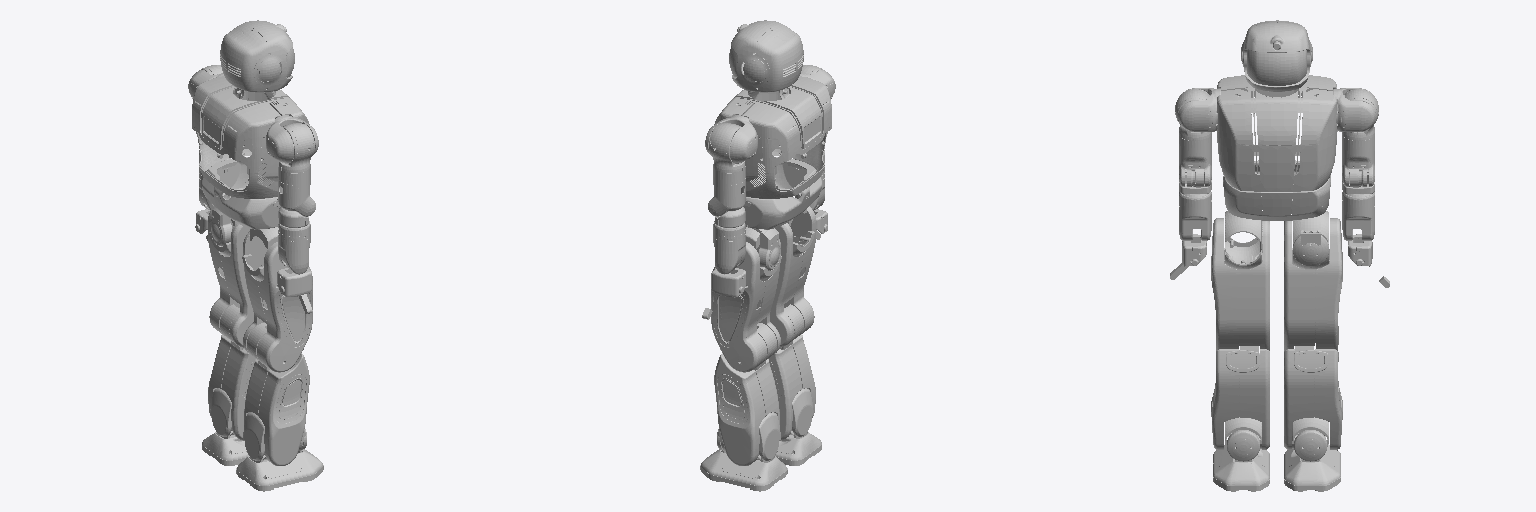
--- Render facts (derived) ---
3 views of the same robot in one strip: view 1: azimuth 30°, elevation 25°; view 2: azimuth 150°, elevation 25°; view 3: azimuth 270°, elevation 25° (orthographic).
Robot: huboplus — 60 links, 59 joints (57 revolute, 2 fixed); root link Body_Torso; default pose: all joints at 0.
Links seen in each view (by area): view 1: Body_Torso, Body_RHP, Body_RKP, Body_HNP, Body_LHP, Body_LKP, Body_Hip, Body_RAR, Body_RSY, Body_RWY, Body_RSP, Body_RSR (+6 smaller); view 2: Body_Torso, Body_LKP, Body_LHP, Body_HNP, Body_RHP, Body_RKP, Body_Hip, Body_LAR, Body_LSY, Body_LWY, Body_LSP, Body_LSR (+5 smaller); view 3: Body_Torso, Body_LHP, Body_RHP, Body_LKP, Body_RKP, Body_HNP, Body_Hip, Body_LAR, Body_RAR, Body_RHR, Body_RWY, Body_LWY (+11 smaller).
Link boxes in pixels (bbox=[...]): Body_Torso: bbox=[192, 76, 309, 198]; Body_RHP: bbox=[243, 231, 312, 372]; Body_RKP: bbox=[244, 323, 309, 465]; Body_HNP: bbox=[220, 20, 294, 92]; Body_LHP: bbox=[208, 210, 253, 347]; Body_LKP: bbox=[208, 304, 255, 440]; Body_Hip: bbox=[202, 159, 280, 229]; Body_RAR: bbox=[236, 429, 323, 491]; Body_RSY: bbox=[278, 160, 315, 216]; Body_RWY: bbox=[278, 221, 310, 274]; Body_RSP: bbox=[266, 115, 318, 162]; Body_RSR: bbox=[279, 123, 314, 172]; Body_Torso: bbox=[714, 76, 831, 198]; Body_LKP: bbox=[714, 323, 779, 465]; Body_LHP: bbox=[711, 239, 780, 372]; Body_HNP: bbox=[729, 20, 803, 92]; Body_RHP: bbox=[770, 206, 815, 347]; Body_RKP: bbox=[768, 304, 815, 440]; Body_Hip: bbox=[743, 159, 821, 229]; Body_LAR: bbox=[700, 429, 787, 491]; Body_LSY: bbox=[708, 160, 745, 216]; Body_LWY: bbox=[713, 221, 745, 274]; Body_LSP: bbox=[705, 115, 757, 162]; Body_LSR: bbox=[709, 123, 744, 172]; Body_Torso: bbox=[1217, 75, 1337, 191]; Body_LHP: bbox=[1284, 218, 1342, 350]; Body_RHP: bbox=[1211, 218, 1269, 350]; Body_LKP: bbox=[1284, 346, 1342, 449]; Body_RKP: bbox=[1211, 346, 1269, 449]; Body_HNP: bbox=[1241, 20, 1312, 91]; Body_Hip: bbox=[1223, 160, 1330, 220]; Body_LAR: bbox=[1284, 429, 1340, 491]; Body_RAR: bbox=[1213, 429, 1269, 491]; Body_RHR: bbox=[1225, 211, 1261, 268]; Body_RWY: bbox=[1179, 184, 1211, 240]; Body_LWY: bbox=[1342, 185, 1374, 240].
Size in the robot's own frame: 0.2767 by 0.5741 by 1.29 metres.
29 mesh visuals loaded from 49 distinct referenced files (29 binary STL); not drawn: 20 (reference not matched to a file when rendering).

The robot description file, URDF, robot "huboplus":
<?xml version="1.0" encoding="utf-8"?>
<!-- =================================================================================== -->
<!-- |    This document was autogenerated by xacro from huboplus.xacro                 | -->
<!-- |    EDITING THIS FILE BY HAND IS NOT RECOMMENDED                                 | -->
<!-- =================================================================================== -->
<robot name="huboplus">
  <link name="Body_Torso">
    <inertial>
      <mass value="7.50334"/>
      <inertia ixx="0.102019" ixy="2.45462e-05" ixz="0.00713022" iyy="0.0832724" iyz="-0.00131733" izz="0.086493"/>
      <origin xyz="0 0 0"/>
    </inertial>
    <visual>
      <geometry>
        <mesh filename="meshes_hubo/Body_Torso_vis.stl"/>
      </geometry>
      <material name="random">
        <color rgba="0.800000 0.800000 0.800000 1"/>
      </material>
    </visual>
    <!--<collision>-->
      <!--<geometry>-->
        <!--<mesh filename="meshes_hubo/Body_Torso_col.stl"/>-->
      <!--</geometry>-->
    <!--</collision>-->
  </link>
  <link name="Body_HNR">
</link>
  <link name="Body_HNP">
    <inertial>
      <mass value="0.374251"/>
      <inertia ixx="0.00164033" ixy="-1.08171e-07" ixz="-9.53978e-05" iyy="0.00153943" iyz="1.25376e-06" izz="0.00190393"/>
      <origin xyz="0.0106886 -3.00864e-05 0.032123"/>
    </inertial>
    <visual>
      <geometry>
        <mesh filename="meshes_hubo/Body_HNP_vis.stl"/>
      </geometry>
      <material name="random">
        <color rgba="0.800000 0.800000 0.800000 1"/>
      </material>
    </visual>
    <!--<collision>-->
      <!--<geometry>-->
        <!--<mesh filename="meshes_hubo/Body_HNP_col.stl"/>-->
      <!--</geometry>-->
    <!--</collision>-->
  </link>
  <link name="Body_LSP">
    <inertial>
      <mass value="0.646655"/>
      <inertia ixx="0.000893731" ixy="-0.000156484" ixz="4.98007e-07" iyy="0.00093016" iyz="1.57095e-07" izz="0.00124323"/>
      <origin xyz="0.0167207 0.0570407 9.91873e-06"/>
    </inertial>
    <visual>
      <geometry>
        <mesh filename="meshes_hubo/Body_LSP_vis.stl"/>
      </geometry>
      <material name="random">
        <color rgba="0.800000 0.800000 0.800000 1"/>
      </material>
    </visual>
    <!--<collision>-->
      <!--<geometry>-->
        <!--<mesh filename="meshes_hubo/Body_LSP_col.stl"/>-->
      <!--</geometry>-->
    <!--</collision>-->
  </link>
  <link name="Body_LSR">
    <inertial>
      <mass value="0.413368"/>
      <inertia ixx="0.000269283" ixy="4.52571e-07" ixz="3.23662e-06" iyy="0.00037679" iyz="9.93935e-07" izz="0.000360355"/>
      <origin xyz="-0.036208 -8.31243e-05 -0.00126685"/>
    </inertial>
    <visual>
      <geometry>
        <mesh filename="meshes_hubo/Body_LSR_vis.stl"/>
      </geometry>
      <material name="random">
        <color rgba="0.800000 0.800000 0.800000 1"/>
      </material>
    </visual>
    <!--<collision>-->
      <!--<geometry>-->
        <!--<mesh filename="meshes_hubo/Body_LSR_col.stl"/>-->
      <!--</geometry>-->
    <!--</collision>-->
  </link>
  <link name="Body_LSY">
    <inertial>
      <mass value="1.15461"/>
      <inertia ixx="0.00365479" ixy="2.05436e-06" ixz="0.000418448" iyy="0.00364731" iyz="-3.09648e-05" izz="0.00060633"/>
      <origin xyz="0.00456121 3.10576e-05 -0.0907824"/>
    </inertial>
    <visual>
      <geometry>
        <mesh filename="meshes_hubo/Body_LSY_vis.stl"/>
      </geometry>
      <material name="random">
        <color rgba="0.800000 0.800000 0.800000 1"/>
      </material>
    </visual>
    <!--<collision>-->
      <!--<geometry>-->
        <!--<mesh filename="meshes_hubo/Body_LSY_col.stl"/>-->
      <!--</geometry>-->
    <!--</collision>-->
  </link>
  <link name="Body_LEP">
    <inertial>
      <mass value="0.44094"/>
      <inertia ixx="0.0005027" ixy="3.64587e-06" ixz="-1.41388e-05" iyy="0.00049415" iyz="7.65528e-06" izz="0.000131786"/>
      <origin xyz="-0.0217349 0.0178314 -0.0610873"/>
    </inertial>
    <visual>
      <geometry>
        <mesh filename="meshes_hubo/Body_LEP_vis.stl"/>
      </geometry>
      <material name="random">
        <color rgba="0.800000 0.800000 0.800000 1"/>
      </material>
    </visual>
    <!--<collision>-->
      <!--<geometry>-->
        <!--<mesh filename="meshes_hubo/Body_LEP_col.stl"/>-->
      <!--</geometry>-->
    <!--</collision>-->
  </link>
  <link name="Body_LWY">
    <inertial>
      <mass value="0.537738"/>
      <inertia ixx="0.00063457" ixy="-4.62486e-07" ixz="6.20682e-06" iyy="0.000563918" iyz="3.54044e-05" izz="0.000305422"/>
      <origin xyz="-0.00122019 0.000635233 -0.0238043"/>
    </inertial>
    <visual>
      <geometry>
        <mesh filename="meshes_hubo/Body_LWY_vis.stl"/>
      </geometry>
      <material name="random">
        <color rgba="0.800000 0.800000 0.800000 1"/>
      </material>
    </visual>
    <!--<collision>-->
      <!--<geometry>-->
        <!--<mesh filename="meshes_hubo/Body_LWY_col.stl"/>-->
      <!--</geometry>-->
    <!--</collision>-->
  </link>
  <link name="Body_LWP">
    <inertial>
      <mass value="0.164393"/>
      <inertia ixx="9.74327e-05" ixy="-5.22155e-07" ixz="-1.17317e-06" iyy="0.000144494" iyz="9.4927e-06" izz="0.000122681"/>
      <origin xyz="-0.000258199 0.011442 -0.0461472"/>
    </inertial>
    <visual>
      <geometry>
        <mesh filename="meshes_hubo/Body_LWP_vis.stl"/>
      </geometry>
      <material name="random">
        <color rgba="0.800000 0.800000 0.800000 1"/>
      </material>
    </visual>
    <!--<collision>-->
      <!--<geometry>-->
        <!--<mesh filename="meshes_hubo/Body_LWP_col.stl"/>-->
      <!--</geometry>-->
    <!--</collision>-->
  </link>
  <link name="leftThumbProximal">
    <inertial>
      <mass value="0.096"/>
      <inertia ixx="2.304e-06" ixy="0" ixz="0" iyy="8.96e-06" iyz="6.85949e-15" izz="9.216e-06"/>
      <origin xyz="0.024 0 0"/>
    </inertial>
    <visual>
      <geometry>
        <mesh filename="meshes_hubo/leftThumbProximal_vis.stl"/>
      </geometry>
      <material name="random">
        <color rgba="0.800000 0.800000 0.800000 1"/>
      </material>
    </visual>
    <!--<collision>-->
      <!--<geometry>-->
        <!--<mesh filename="meshes_hubo/leftThumbProximal_vis.stl"/>-->
      <!--</geometry>-->
    <!--</collision>-->
  </link>
  <link name="leftThumbMedial">
    <inertial>
      <mass value="0.048"/>
      <inertia ixx="1.152e-06" ixy="0" ixz="0" iyy="2.59e-06" iyz="3.42975e-15" izz="2.718e-06"/>
      <origin xyz="0.0165 0 0"/>
    </inertial>
    <!--<visual>-->
      <!--<geometry>-->
        <!--<mesh filename="meshes_hubo/leftThumbMedial_vis.stl"/>-->
      <!--</geometry>-->
      <!--<material name="random">-->
        <!--<color rgba="0.800000 0.800000 0.800000 1"/>-->
      <!--</material>-->
    <!--</visual>-->
    <!--<collision>-->
      <!--<geometry>-->
        <!--<mesh filename="meshes_hubo/leftThumbMedial_vis.stl"/>-->
      <!--</geometry>-->
    <!--</collision>-->
  </link>
  <link name="leftThumbDistal">
    <inertial>
      <mass value="0.08"/>
      <inertia ixx="1.92e-06" ixy="0" ixz="0" iyy="3.82667e-06" iyz="5.71624e-15" izz="4.04e-06"/>
      <origin xyz="0.015 0 0"/>
    </inertial>
    <visual>
      <geometry>
        <mesh filename="meshes_hubo/leftThumbDistal_vis.stl"/>
      </geometry>
      <material name="random">
        <color rgba="0.800000 0.800000 0.800000 1"/>
      </material>
    </visual>
    <!--<collision>-->
      <!--<geometry>-->
        <!--<mesh filename="meshes_hubo/leftThumbDistal_vis.stl"/>-->
      <!--</geometry>-->
    <!--</collision>-->
  </link>
  <link name="leftPinkyProximal">
    <inertial>
      <mass value="0.096"/>
      <inertia ixx="2.304e-06" ixy="0" ixz="0" iyy="8.96e-06" iyz="6.85949e-15" izz="9.216e-06"/>
      <origin xyz="0.024 0 0"/>
    </inertial>
    <visual>
      <geometry>
        <mesh filename="meshes_hubo/leftPinkyProximal_vis.stl"/>
      </geometry>
      <material name="random">
        <color rgba="0.800000 0.800000 0.800000 1"/>
      </material>
    </visual>
    <!--<collision>-->
      <!--<geometry>-->
        <!--<mesh filename="meshes_hubo/leftPinkyProximal_vis.stl"/>-->
      <!--</geometry>-->
    <!--</collision>-->
  </link>
  <link name="leftPinkyMedial">
    <inertial>
      <mass value="0.048"/>
      <inertia ixx="1.152e-06" ixy="0" ixz="0" iyy="2.59e-06" iyz="3.42975e-15" izz="2.718e-06"/>
      <origin xyz="0.0165 0 0"/>
    </inertial>
    <visual>
      <geometry>
        <mesh filename="meshes_hubo/leftPinkyMedial_vis.stl"/>
      </geometry>
      <material name="random">
        <color rgba="0.800000 0.800000 0.800000 1"/>
      </material>
    </visual>
    <!--<collision>-->
      <!--<geometry>-->
        <!--<mesh filename="meshes_hubo/leftPinkyMedial_vis.stl"/>-->
      <!--</geometry>-->
    <!--</collision>-->
  </link>
  <link name="leftPinkyDistal">
    <inertial>
      <mass value="0.08"/>
      <inertia ixx="1.92e-06" ixy="0" ixz="0" iyy="3.82667e-06" iyz="5.71624e-15" izz="4.04e-06"/>
      <origin xyz="0.015 0 0"/>
    </inertial>
    <visual>
      <geometry>
        <mesh filename="meshes_hubo/leftPinkyDistal_vis.stl"/>
      </geometry>
      <material name="random">
        <color rgba="0.800000 0.800000 0.800000 1"/>
      </material>
    </visual>
    <!--<collision>-->
      <!--<geometry>-->
        <!--<mesh filename="meshes_hubo/leftPinkyDistal_vis.stl"/>-->
      <!--</geometry>-->
    <!--</collision>-->
  </link>
  <link name="leftRingProximal">
    <inertial>
      <mass value="0.096"/>
      <inertia ixx="2.304e-06" ixy="0" ixz="0" iyy="8.96e-06" iyz="6.85949e-15" izz="9.216e-06"/>
      <origin xyz="0.024 0 0"/>
    </inertial>
    <visual>
      <geometry>
        <mesh filename="meshes_hubo/leftRingProximal_vis.stl"/>
      </geometry>
      <material name="random">
        <color rgba="0.800000 0.800000 0.800000 1"/>
      </material>
    </visual>
    <!--<collision>-->
      <!--<geometry>-->
        <!--<mesh filename="meshes_hubo/leftRingProximal_vis.stl"/>-->
      <!--</geometry>-->
    <!--</collision>-->
  </link>
  <link name="leftRingMedial">
    <inertial>
      <mass value="0.048"/>
      <inertia ixx="1.152e-06" ixy="0" ixz="0" iyy="2.59e-06" iyz="3.42975e-15" izz="2.718e-06"/>
      <origin xyz="0.0165 0 0"/>
    </inertial>
    <visual>
      <geometry>
        <mesh filename="meshes_hubo/leftRingMedial_vis.stl"/>
      </geometry>
      <material name="random">
        <color rgba="0.800000 0.800000 0.800000 1"/>
      </material>
    </visual>
    <!--<collision>-->
      <!--<geometry>-->
        <!--<mesh filename="meshes_hubo/leftRingMedial_vis.stl"/>-->
      <!--</geometry>-->
    <!--</collision>-->
  </link>
  <link name="leftRingDistal">
    <inertial>
      <mass value="0.08"/>
      <inertia ixx="1.92e-06" ixy="0" ixz="0" iyy="3.82667e-06" iyz="5.71624e-15" izz="4.04e-06"/>
      <origin xyz="0.015 0 0"/>
    </inertial>
    <visual>
      <geometry>
        <mesh filename="meshes_hubo/leftRingDistal_vis.stl"/>
      </geometry>
      <material name="random">
        <color rgba="0.800000 0.800000 0.800000 1"/>
      </material>
    </visual>
    <!--<collision>-->
      <!--<geometry>-->
        <!--<mesh filename="meshes_hubo/leftRingDistal_vis.stl"/>-->
      <!--</geometry>-->
    <!--</collision>-->
  </link>
  <link name="leftMiddleProximal">
    <inertial>
      <mass value="0.096"/>
      <inertia ixx="2.304e-06" ixy="0" ixz="0" iyy="8.96e-06" iyz="6.85949e-15" izz="9.216e-06"/>
      <origin xyz="0.024 0 0"/>
    </inertial>
    <!--<visual>-->
      <!--<geometry>-->
        <!--<mesh filename="meshes_hubo/leftMiddleProximal_vis.stl"/>-->
      <!--</geometry>-->
      <!--<material name="random">-->
        <!--<color rgba="0.800000 0.800000 0.800000 1"/>-->
      <!--</material>-->
    <!--</visual>-->
    <!--<collision>-->
      <!--<geometry>-->
        <!--<mesh filename="meshes_hubo/leftMiddleProximal_vis.stl"/>-->
      <!--</geometry>-->
    <!--</collision>-->
  </link>
  <link name="leftMiddleMedial">
    <inertial>
      <mass value="0.048"/>
      <inertia ixx="1.152e-06" ixy="0" ixz="0" iyy="2.59e-06" iyz="3.42975e-15" izz="2.718e-06"/>
      <origin xyz="0.0165 0 0"/>
    </inertial>
    <visual>
      <geometry>
        <mesh filename="meshes_hubo/leftMiddleMedial_vis.stl"/>
      </geometry>
      <material name="random">
        <color rgba="0.800000 0.800000 0.800000 1"/>
      </material>
    </visual>
    <!--<collision>-->
      <!--<geometry>-->
        <!--<mesh filename="meshes_hubo/leftMiddleMedial_vis.stl"/>-->
      <!--</geometry>-->
    <!--</collision>-->
  </link>
  <link name="leftMiddleDistal">
    <inertial>
      <mass value="0.08"/>
      <inertia ixx="1.92e-06" ixy="0" ixz="0" iyy="3.82667e-06" iyz="5.71624e-15" izz="4.04e-06"/>
      <origin xyz="0.015 0 0"/>
    </inertial>
    <visual>
      <geometry>
        <mesh filename="meshes_hubo/leftMiddleDistal_vis.stl"/>
      </geometry>
      <material name="random">
        <color rgba="0.800000 0.800000 0.800000 1"/>
      </material>
    </visual>
    <!--<collision>-->
      <!--<geometry>-->
        <!--<mesh filename="meshes_hubo/leftMiddleDistal_vis.stl"/>-->
      <!--</geometry>-->
    <!--</collision>-->
  </link>
  <link name="leftIndexProximal">
    <inertial>
      <mass value="0.096"/>
      <inertia ixx="2.304e-06" ixy="0" ixz="0" iyy="8.96e-06" iyz="6.85949e-15" izz="9.216e-06"/>
      <origin xyz="0.024 0 0"/>
    </inertial>
    <visual>
      <geometry>
        <mesh filename="meshes_hubo/leftIndexProximal_vis.stl"/>
      </geometry>
      <material name="random">
        <color rgba="0.800000 0.800000 0.800000 1"/>
      </material>
    </visual>
    <!--<collision>-->
      <!--<geometry>-->
        <!--<mesh filename="meshes_hubo/leftIndexProximal_vis.stl"/>-->
      <!--</geometry>-->
    <!--</collision>-->
  </link>
  <link name="leftIndexMedial">
    <inertial>
      <mass value="0.048"/>
      <inertia ixx="1.152e-06" ixy="0" ixz="0" iyy="2.59e-06" iyz="3.42975e-15" izz="2.718e-06"/>
      <origin xyz="0.0165 0 0"/>
    </inertial>
    <visual>
      <geometry>
        <mesh filename="meshes_hubo/leftIndexMedial_vis.stl"/>
      </geometry>
      <material name="random">
        <color rgba="0.800000 0.800000 0.800000 1"/>
      </material>
    </visual>
    <!--<collision>-->
      <!--<geometry>-->
        <!--<mesh filename="meshes_hubo/leftIndexMedial_vis.stl"/>-->
      <!--</geometry>-->
    <!--</collision>-->
  </link>
  <link name="leftIndexDistal">
    <inertial>
      <mass value="0.08"/>
      <inertia ixx="1.92e-06" ixy="0" ixz="0" iyy="3.82667e-06" iyz="5.71624e-15" izz="4.04e-06"/>
      <origin xyz="0.015 0 0"/>
    </inertial>
    <visual>
      <geometry>
        <mesh filename="meshes_hubo/leftIndexDistal_vis.stl"/>
      </geometry>
      <material name="random">
        <color rgba="0.800000 0.800000 0.800000 1"/>
      </material>
    </visual>
    <!--<collision>-->
      <!--<geometry>-->
        <!--<mesh filename="meshes_hubo/leftIndexDistal_vis.stl"/>-->
      <!--</geometry>-->
    <!--</collision>-->
  </link>
  <link name="Body_RSP">
    <inertial>
      <mass value="0.646655"/>
      <inertia ixx="0.000893731" ixy="0.000156484" ixz="4.98007e-07" iyy="0.00093016" iyz="-1.57095e-07" izz="0.00124323"/>
      <origin xyz="0.0167207 -0.0570407 9.91873e-06"/>
    </inertial>
    <visual>
      <geometry>
        <mesh filename="meshes_hubo/Body_RSP_vis.stl"/>
      </geometry>
      <material name="random">
        <color rgba="0.800000 0.800000 0.800000 1"/>
      </material>
    </visual>
    <!--<collision>-->
      <!--<geometry>-->
        <!--<mesh filename="meshes_hubo/Body_RSP_col.stl"/>-->
      <!--</geometry>-->
    <!--</collision>-->
  </link>
  <link name="Body_RSR">
    <inertial>
      <mass value="0.413368"/>
      <inertia ixx="0.000269283" ixy="-4.52571e-07" ixz="3.23662e-06" iyy="0.00037679" iyz="-9.93935e-07" izz="0.000360355"/>
      <origin xyz="-0.036208 8.31243e-05 -0.00126685"/>
    </inertial>
    <visual>
      <geometry>
        <mesh filename="meshes_hubo/Body_RSR_vis.stl"/>
      </geometry>
      <material name="random">
        <color rgba="0.800000 0.800000 0.800000 1"/>
      </material>
    </visual>
    <!--<collision>-->
      <!--<geometry>-->
        <!--<mesh filename="meshes_hubo/Body_RSR_col.stl"/>-->
      <!--</geometry>-->
    <!--</collision>-->
  </link>
  <link name="Body_RSY">
    <inertial>
      <mass value="1.15461"/>
      <inertia ixx="0.00365479" ixy="-2.05436e-06" ixz="0.000418448" iyy="0.00364731" iyz="3.09648e-05" izz="0.00060633"/>
      <origin xyz="0.00456121 -3.10576e-05 -0.0907824"/>
    </inertial>
    <visual>
      <geometry>
        <mesh filename="meshes_hubo/Body_RSY_vis.stl"/>
      </geometry>
      <material name="random">
        <color rgba="0.800000 0.800000 0.800000 1"/>
      </material>
    </visual>
    <!--<collision>-->
      <!--<geometry>-->
        <!--<mesh filename="meshes_hubo/Body_RSY_col.stl"/>-->
      <!--</geometry>-->
    <!--</collision>-->
  </link>
  <link name="Body_REP">
    <inertial>
      <mass value="0.44094"/>
      <inertia ixx="0.0005027" ixy="-3.64587e-06" ixz="-1.41388e-05" iyy="0.00049415" iyz="-7.65528e-06" izz="0.000131786"/>
      <origin xyz="-0.0217349 -0.0178314 -0.0610873"/>
    </inertial>
    <visual>
      <geometry>
        <mesh filename="meshes_hubo/Body_REP_vis.stl"/>
      </geometry>
      <material name="random">
        <color rgba="0.800000 0.800000 0.800000 1"/>
      </material>
    </visual>
    <!--<collision>-->
      <!--<geometry>-->
        <!--<mesh filename="meshes_hubo/Body_REP_col.stl"/>-->
      <!--</geometry>-->
    <!--</collision>-->
  </link>
  <link name="Body_RWY">
    <inertial>
      <mass value="0.537738"/>
      <inertia ixx="0.00063457" ixy="4.62486e-07" ixz="6.20682e-06" iyy="0.000563918" iyz="-3.54044e-05" izz="0.000305422"/>
      <origin xyz="-0.00122019 -0.000635233 -0.0238043"/>
    </inertial>
    <visual>
      <geometry>
        <mesh filename="meshes_hubo/Body_RWY_vis.stl"/>
      </geometry>
      <material name="random">
        <color rgba="0.800000 0.800000 0.800000 1"/>
      </material>
    </visual>
    <!--<collision>-->
      <!--<geometry>-->
        <!--<mesh filename="meshes_hubo/Body_RWY_col.stl"/>-->
      <!--</geometry>-->
    <!--</collision>-->
  </link>
  <link name="Body_RWP">
    <inertial>
      <mass value="0.164393"/>
      <inertia ixx="9.74327e-05" ixy="5.22155e-07" ixz="-1.17317e-06" iyy="0.000144494" iyz="-9.4927e-06" izz="0.000122681"/>
      <origin xyz="-0.000258199 -0.011442 -0.0461472"/>
    </inertial>
    <visual>
      <geometry>
        <mesh filename="meshes_hubo/Body_RWP_vis.stl"/>
      </geometry>
      <material name="random">
        <color rgba="0.800000 0.800000 0.800000 1"/>
      </material>
    </visual>
    <!--<collision>-->
      <!--<geometry>-->
        <!--<mesh filename="meshes_hubo/Body_RWP_col.stl"/>-->
      <!--</geometry>-->
    <!--</collision>-->
  </link>
  <link name="rightThumbProximal">
    <inertial>
      <mass value="0.096"/>
      <inertia ixx="2.304e-06" ixy="0" ixz="0" iyy="8.96e-06" iyz="6.85949e-15" izz="9.216e-06"/>
      <origin xyz="0.024 0 0"/>
    </inertial>
    <!--<visual>-->
      <!--<geometry>-->
        <!--<mesh filename="meshes_hubo/rightThumbProximal_vis.stl"/>-->
      <!--</geometry>-->
      <!--<material name="random">-->
        <!--<color rgba="0.800000 0.800000 0.800000 1"/>-->
      <!--</material>-->
    <!--</visual>-->
    <!--<collision>-->
      <!--<geometry>-->
        <!--<mesh filename="meshes_hubo/rightThumbProximal_vis.stl"/>-->
      <!--</geometry>-->
    <!--</collision>-->
  </link>
  <link name="rightThumbMedial">
    <inertial>
      <mass value="0.048"/>
      <inertia ixx="1.152e-06" ixy="0" ixz="0" iyy="2.59e-06" iyz="3.42975e-15" izz="2.718e-06"/>
      <origin xyz="0.0165 0 0"/>
    </inertial>
    <!--<visual>-->
      <!--<geometry>-->
        <!--<mesh filename="meshes_hubo/rightThumbMedial_vis.stl"/>-->
      <!--</geometry>-->
      <!--<material name="random">-->
        <!--<color rgba="0.800000 0.800000 0.800000 1"/>-->
      <!--</material>-->
    <!--</visual>-->
    <!--<collision>-->
      <!--<geometry>-->
        <!--<mesh filename="meshes_hubo/rightThumbMedial_vis.stl"/>-->
      <!--</geometry>-->
    <!--</collision>-->
  </link>
  <link name="rightThumbDistal">
    <inertial>
      <mass value="0.08"/>
      <inertia ixx="1.92e-06" ixy="0" ixz="0" iyy="3.82667e-06" iyz="5.71624e-15" izz="4.04e-06"/>
      <origin xyz="0.015 0 0"/>
    </inertial>
    <visual>
      <geometry>
        <mesh filename="meshes_hubo/rightThumbDistal_vis.stl"/>
      </geometry>
      <material name="random">
        <color rgba="0.800000 0.800000 0.800000 1"/>
      </material>
    </visual>
    <!--<collision>-->
      <!--<geometry>-->
        <!--<mesh filename="meshes_hubo/rightThumbDistal_vis.stl"/>-->
      <!--</geometry>-->
    <!--</collision>-->
  </link>
  <link name="rightPinkyProximal">
    <inertial>
      <mass value="0.096"/>
      <inertia ixx="2.304e-06" ixy="0" ixz="0" iyy="8.96e-06" iyz="6.85949e-15" izz="9.216e-06"/>
      <origin xyz="0.024 0 0"/>
    </inertial>
    <visual>
      <geometry>
        <mesh filename="meshes_hubo/rightPinkyProximal_vis.stl"/>
      </geometry>
      <material name="random">
        <color rgba="0.800000 0.800000 0.800000 1"/>
      </material>
    </visual>
    <!--<collision>-->
      <!--<geometry>-->
        <!--<mesh filename="meshes_hubo/rightPinkyProximal_vis.stl"/>-->
      <!--</geometry>-->
    <!--</collision>-->
  </link>
  <link name="rightPinkyMedial">
    <inertial>
      <mass value="0.048"/>
      <inertia ixx="1.152e-06" ixy="0" ixz="0" iyy="2.59e-06" iyz="3.42975e-15" izz="2.718e-06"/>
      <origin xyz="0.0165 0 0"/>
    </inertial>
    <visual>
      <geometry>
        <mesh filename="meshes_hubo/rightPinkyMedial_vis.stl"/>
      </geometry>
      <material name="random">
        <color rgba="0.800000 0.800000 0.800000 1"/>
      </material>
    </visual>
    <!--<collision>-->
      <!--<geometry>-->
        <!--<mesh filename="meshes_hubo/rightPinkyMedial_vis.stl"/>-->
      <!--</geometry>-->
    <!--</collision>-->
  </link>
  <link name="rightPinkyDistal">
    <inertial>
      <mass value="0.08"/>
      <inertia ixx="1.92e-06" ixy="0" ixz="0" iyy="3.82667e-06" iyz="5.71624e-15" izz="4.04e-06"/>
      <origin xyz="0.015 0 0"/>
    </inertial>
    <visual>
      <geometry>
        <mesh filename="meshes_hubo/rightPinkyDistal_vis.stl"/>
      </geometry>
      <material name="random">
        <color rgba="0.800000 0.800000 0.800000 1"/>
      </material>
    </visual>
    <!--<collision>-->
      <!--<geometry>-->
        <!--<mesh filename="meshes_hubo/rightPinkyDistal_vis.stl"/>-->
      <!--</geometry>-->
    <!--</collision>-->
  </link>
  <link name="rightRingProximal">
    <inertial>
      <mass value="0.096"/>
      <inertia ixx="2.304e-06" ixy="0" ixz="0" iyy="8.96e-06" iyz="6.85949e-15" izz="9.216e-06"/>
      <origin xyz="0.024 0 0"/>
    </inertial>
    <!--<visual>-->
      <!--<geometry>-->
        <!--<mesh filename="meshes_hubo/rightRingProximal_vis.stl"/>-->
      <!--</geometry>-->
      <!--<material name="random">-->
        <!--<color rgba="0.800000 0.800000 0.800000 1"/>-->
      <!--</material>-->
    <!--</visual>-->
    <!--<collision>-->
      <!--<geometry>-->
        <!--<mesh filename="meshes_hubo/rightRingProximal_vis.stl"/>-->
      <!--</geometry>-->
    <!--</collision>-->
  </link>
  <link name="rightRingMedial">
    <inertial>
      <mass value="0.048"/>
      <inertia ixx="1.152e-06" ixy="0" ixz="0" iyy="2.59e-06" iyz="3.42975e-15" izz="2.718e-06"/>
      <origin xyz="0.0165 0 0"/>
    </inertial>
    <visual>
      <geometry>
        <mesh filename="meshes_hubo/rightRingMedial_vis.stl"/>
      </geometry>
      <material name="random">
        <color rgba="0.800000 0.800000 0.800000 1"/>
      </material>
    </visual>
    <!--<collision>-->
      <!--<geometry>-->
        <!--<mesh filename="meshes_hubo/rightRingMedial_vis.stl"/>-->
      <!--</geometry>-->
    <!--</collision>-->
  </link>
  <link name="rightRingDistal">
    <inertial>
      <mass value="0.08"/>
      <inertia ixx="1.92e-06" ixy="0" ixz="0" iyy="3.82667e-06" iyz="5.71624e-15" izz="4.04e-06"/>
      <origin xyz="0.015 0 0"/>
    </inertial>
    <visual>
      <geometry>
        <mesh filename="meshes_hubo/rightRingDistal_vis.stl"/>
      </geometry>
      <material name="random">
        <color rgba="0.800000 0.800000 0.800000 1"/>
      </material>
    </visual>
    <!--<collision>-->
      <!--<geometry>-->
        <!--<mesh filename="meshes_hubo/rightRingDistal_vis.stl"/>-->
      <!--</geometry>-->
    <!--</collision>-->
  </link>
  <link name="rightMiddleProximal">
    <inertial>
      <mass value="0.096"/>
      <inertia ixx="2.304e-06" ixy="0" ixz="0" iyy="8.96e-06" iyz="6.85949e-15" izz="9.216e-06"/>
      <origin xyz="0.024 0 0"/>
    </inertial>
    <visual>
      <geometry>
        <mesh filename="meshes_hubo/rightMiddleProximal_vis.stl"/>
      </geometry>
      <material name="random">
        <color rgba="0.800000 0.800000 0.800000 1"/>
      </material>
    </visual>
    <!--<collision>-->
      <!--<geometry>-->
        <!--<mesh filename="meshes_hubo/rightMiddleProximal_vis.stl"/>-->
      <!--</geometry>-->
    <!--</collision>-->
  </link>
  <link name="rightMiddleMedial">
    <inertial>
      <mass value="0.048"/>
      <inertia ixx="1.152e-06" ixy="0" ixz="0" iyy="2.59e-06" iyz="3.42975e-15" izz="2.718e-06"/>
      <origin xyz="0.0165 0 0"/>
    </inertial>
    <visual>
      <geometry>
        <mesh filename="meshes_hubo/rightMiddleMedial_vis.stl"/>
      </geometry>
      <material name="random">
        <color rgba="0.800000 0.800000 0.800000 1"/>
      </material>
    </visual>
    <!--<collision>-->
      <!--<geometry>-->
        <!--<mesh filename="meshes_hubo/rightMiddleMedial_vis.stl"/>-->
      <!--</geometry>-->
    <!--</collision>-->
  </link>
  <link name="rightMiddleDistal">
    <inertial>
      <mass value="0.08"/>
      <inertia ixx="1.92e-06" ixy="0" ixz="0" iyy="3.82667e-06" iyz="5.71624e-15" izz="4.04e-06"/>
      <origin xyz="0.015 0 0"/>
    </inertial>
    <visual>
      <geometry>
        <mesh filename="meshes_hubo/rightMiddleDistal_vis.stl"/>
      </geometry>
      <material name="random">
        <color rgba="0.800000 0.800000 0.800000 1"/>
      </material>
    </visual>
    <!--<collision>-->
      <!--<geometry>-->
        <!--<mesh filename="meshes_hubo/rightMiddleDistal_vis.stl"/>-->
      <!--</geometry>-->
    <!--</collision>-->
  </link>
  <link name="rightIndexProximal">
    <inertial>
      <mass value="0.096"/>
      <inertia ixx="2.304e-06" ixy="0" ixz="0" iyy="8.96e-06" iyz="6.85949e-15" izz="9.216e-06"/>
      <origin xyz="0.024 0 0"/>
    </inertial>
    <!--<visual>-->
      <!--<geometry>-->
        <!--<mesh filename="meshes_hubo/rightIndexProximal_vis.stl"/>-->
      <!--</geometry>-->
      <!--<material name="random">-->
        <!--<color rgba="0.800000 0.800000 0.800000 1"/>-->
      <!--</material>-->
    <!--</visual>-->
    <!--<collision>-->
      <!--<geometry>-->
        <!--<mesh filename="meshes_hubo/rightIndexProximal_vis.stl"/>-->
      <!--</geometry>-->
    <!--</collision>-->
  </link>
  <link name="rightIndexMedial">
    <inertial>
      <mass value="0.048"/>
      <inertia ixx="1.152e-06" ixy="0" ixz="0" iyy="2.59e-06" iyz="3.42975e-15" izz="2.718e-06"/>
      <origin xyz="0.0165 0 0"/>
    </inertial>
    <visual>
      <geometry>
        <mesh filename="meshes_hubo/rightIndexMedial_vis.stl"/>
      </geometry>
      <material name="random">
        <color rgba="0.800000 0.800000 0.800000 1"/>
      </material>
    </visual>
    <!--<collision>-->
      <!--<geometry>-->
        <!--<mesh filename="meshes_hubo/rightIndexMedial_vis.stl"/>-->
      <!--</geometry>-->
    <!--</collision>-->
  </link>
  <link name="rightIndexDistal">
    <inertial>
      <mass value="0.08"/>
      <inertia ixx="1.92e-06" ixy="0" ixz="0" iyy="3.82667e-06" iyz="5.71624e-15" izz="4.04e-06"/>
      <origin xyz="0.015 0 0"/>
    </inertial>
    <!--<visual>-->
      <!--<geometry>-->
        <!--<mesh filename="meshes_hubo/rightIndexDistal_vis.stl"/>-->
      <!--</geometry>-->
      <!--<material name="random">-->
        <!--<color rgba="0.800000 0.800000 0.800000 1"/>-->
      <!--</material>-->
    <!--</visual>-->
    <!--<collision>-->
      <!--<geometry>-->
        <!--<mesh filename="meshes_hubo/rightIndexDistal_vis.stl"/>-->
      <!--</geometry>-->
    <!--</collision>-->
  </link>
  <link name="Body_Hip">
    <inertial>
      <mass value="3.41719"/>
      <inertia ixx="0.0180349" ixy="3.17531e-05" ixz="-0.000513489" iyy="0.00912382" iyz="-6.90617e-05" izz="0.0220514"/>
      <origin xyz="-0.0138504 7.80652e-06 -0.0354613"/>
    </inertial>
    <visual>
      <geometry>
        <mesh filename="meshes_hubo/Body_Hip_vis.stl"/>
      </geometry>
      <material name="random">
        <color rgba="0.800000 0.800000 0.800000 1"/>
      </material>
    </visual>
    <!--<collision>-->
      <!--<geometry>-->
        <!--<mesh filename="meshes_hubo/Body_Hip_col.stl"/>-->
      <!--</geometry>-->
    <!--</collision>-->
  </link>
  <link name="Body_LHY">
    <inertial>
      <mass value="0.826125"/>
      <inertia ixx="0.00151818" ixy="2.13586e-06" ixz="0.000434128" iyy="0.00286333" iyz="-1.57525e-07" izz="0.00211437"/>
      <origin xyz="0.0347065 3.748e-05 -0.0726153"/>
    </inertial>
    <visual>
      <geometry>
        <mesh filename="meshes_hubo/Body_LHY_vis.stl"/>
      </geometry>
      <material name="random">
        <color rgba="0.800000 0.800000 0.800000 1"/>
      </material>
    </visual>
    <!--<collision>-->
      <!--<geometry>-->
        <!--<mesh filename="meshes_hubo/Body_LHY_col.stl"/>-->
      <!--</geometry>-->
    <!--</collision>-->
  </link>
  <link name="Body_LHR">
    <inertial>
      <mass value="1.93266"/>
      <inertia ixx="0.00403487" ixy="7.9452e-05" ixz="-0.000125343" iyy="0.00332707" iyz="-0.000551964" izz="0.00317173"/>
      <origin xyz="-0.0497479 0.0125311 -0.0156437"/>
    </inertial>
    <visual>
      <geometry>
        <mesh filename="meshes_hubo/Body_LHR_vis.stl"/>
      </geometry>
      <material name="random">
        <color rgba="0.800000 0.800000 0.800000 1"/>
      </material>
    </visual>
    <!--<collision>-->
      <!--<geometry>-->
        <!--<mesh filename="meshes_hubo/Body_LHR_col.stl"/>-->
      <!--</geometry>-->
    <!--</collision>-->
  </link>
  <link name="Body_LHP">
    <inertial>
      <mass value="2.8201"/>
      <inertia ixx="0.0295102" ixy="0.000184399" ixz="-0.000370291" iyy="0.0273771" iyz="0.00065658" izz="0.00838035"/>
      <origin xyz="0.0195049 -0.0595775 -0.175202"/>
    </inertial>
    <visual>
      <geometry>
        <mesh filename="meshes_hubo/Body_LHP_vis.stl"/>
      </geometry>
      <material name="random">
        <color rgba="0.800000 0.800000 0.800000 1"/>
      </material>
    </visual>
    <!--<collision>-->
      <!--<geometry>-->
        <!--<mesh filename="meshes_hubo/Body_LHP_col.stl"/>-->
      <!--</geometry>-->
    <!--</collision>-->
  </link>
  <link name="Body_LKP">
    <inertial>
      <mass value="1.80912"/>
      <inertia ixx="0.0232156" ixy="0.000251648" ixz="-0.00129343" iyy="0.0208342" iyz="0.00278068" izz="0.0059204"/>
      <origin xyz="0.0128254 -0.00727567 -0.171431"/>
    </inertial>
    <visual>
      <geometry>
        <mesh filename="meshes_hubo/Body_LKP_vis.stl"/>
      </geometry>
      <material name="random">
        <color rgba="0.800000 0.800000 0.800000 1"/>
      </material>
    </visual>
    <!--<collision>-->
      <!--<geometry>-->
        <!--<mesh filename="meshes_hubo/Body_LKP_col.stl"/>-->
      <!--</geometry>-->
    <!--</collision>-->
  </link>
  <link name="Body_LAP">
    <inertial>
      <mass value="1.63501"/>
      <inertia ixx="0.00231659" ixy="1.87402e-05" ixz="0.000369899" iyy="0.00330411" iyz="6.38153e-05" izz="0.00279495"/>
      <origin xyz="0.0198702 -0.0459693 0.0115069"/>
    </inertial>
    <visual>
      <geometry>
        <mesh filename="meshes_hubo/Body_LAP_vis.stl"/>
      </geometry>
      <material name="random">
        <color rgba="0.800000 0.800000 0.800000 1"/>
      </material>
    </visual>
    <!--<collision>-->
      <!--<geometry>-->
        <!--<mesh filename="meshes_hubo/Body_LAP_col.stl"/>-->
      <!--</geometry>-->
    <!--</collision>-->
  </link>
  <link name="Body_LAR">
    <inertial>
      <mass value="1.20318"/>
      <inertia ixx="0.00295183" ixy="3.23211e-05" ixz="0.000141769" iyy="0.00524792" iyz="5.95404e-05" izz="0.00516817"/>
      <origin xyz="-0.0515094 0.00216398 -0.0693881"/>
    </inertial>
    <visual>
      <geometry>
        <mesh filename="meshes_hubo/Body_LAR_vis.stl"/>
      </geometry>
      <material name="random">
        <color rgba="0.800000 0.800000 0.800000 1"/>
      </material>
    </visual>
    <!--<collision>-->
      <!--<geometry>-->
        <!--<mesh filename="meshes_hubo/Body_LAR_col.stl"/>-->
      <!--</geometry>-->
    <!--</collision>-->
  </link>
  <link name="Body_RHY">
    <inertial>
      <mass value="0.826125"/>
      <inertia ixx="0.00151818" ixy="-2.13586e-06" ixz="0.000434128" iyy="0.00286333" iyz="1.57525e-07" izz="0.00211437"/>
      <origin xyz="0.0347065 -3.748e-05 -0.0726153"/>
    </inertial>
    <!--<visual>-->
      <!--<geometry>-->
        <!--<mesh filename="meshes_hubo/Body_RHY_vis.stl"/>-->
      <!--</geometry>-->
      <!--<material name="random">-->
        <!--<color rgba="0.800000 0.800000 0.800000 1"/>-->
      <!--</material>-->
    <!--</visual>-->
    <!--<collision>-->
      <!--<geometry>-->
        <!--<mesh filename="meshes_hubo/Body_RHY_col.stl"/>-->
      <!--</geometry>-->
    <!--</collision>-->
  </link>
  <link name="Body_RHR">
    <inertial>
      <mass value="1.93266"/>
      <inertia ixx="0.00403487" ixy="-7.9452e-05" ixz="-0.000125343" iyy="0.00332707" iyz="0.000551964" izz="0.00317173"/>
      <origin xyz="-0.0497479 -0.0125311 -0.0156437"/>
    </inertial>
    <visual>
      <geometry>
        <mesh filename="meshes_hubo/Body_RHR_vis.stl"/>
      </geometry>
      <material name="random">
        <color rgba="0.800000 0.800000 0.800000 1"/>
      </material>
    </visual>
    <!--<collision>-->
      <!--<geometry>-->
        <!--<mesh filename="meshes_hubo/Body_RHR_col.stl"/>-->
      <!--</geometry>-->
    <!--</collision>-->
  </link>
  <link name="Body_RHP">
    <inertial>
      <mass value="2.8201"/>
      <inertia ixx="0.0295102" ixy="-0.000184399" ixz="-0.000370291" iyy="0.0273771" iyz="-0.00065658" izz="0.00838035"/>
      <origin xyz="0.0195049 0.0595775 -0.175202"/>
    </inertial>
    <visual>
      <geometry>
        <mesh filename="meshes_hubo/Body_RHP_vis.stl"/>
      </geometry>
      <material name="random">
        <color rgba="0.800000 0.800000 0.800000 1"/>
      </material>
    </visual>
    <!--<collision>-->
      <!--<geometry>-->
        <!--<mesh filename="meshes_hubo/Body_RHP_col.stl"/>-->
      <!--</geometry>-->
    <!--</collision>-->
  </link>
  <link name="Body_RKP">
    <inertial>
      <mass value="1.80912"/>
      <inertia ixx="0.0232156" ixy="-0.000251648" ixz="-0.00129343" iyy="0.0208342" iyz="-0.00278068" izz="0.0059204"/>
      <origin xyz="0.0128254 0.00727567 -0.171431"/>
    </inertial>
    <visual>
      <geometry>
        <mesh filename="meshes_hubo/Body_RKP_vis.stl"/>
      </geometry>
      <material name="random">
        <color rgba="0.800000 0.800000 0.800000 1"/>
      </material>
    </visual>
    <!--<collision>-->
      <!--<geometry>-->
        <!--<mesh filename="meshes_hubo/Body_RKP_col.stl"/>-->
      <!--</geometry>-->
    <!--</collision>-->
  </link>
  <link name="Body_RAP">
    <inertial>
      <mass value="1.63501"/>
      <inertia ixx="0.00231659" ixy="-1.87402e-05" ixz="0.000369899" iyy="0.00330411" iyz="-6.38153e-05" izz="0.00279495"/>
      <origin xyz="0.0198702 0.0459693 0.0115069"/>
    </inertial>
    <visual>
      <geometry>
        <mesh filename="meshes_hubo/Body_RAP_vis.stl"/>
      </geometry>
      <material name="random">
        <color rgba="0.800000 0.800000 0.800000 1"/>
      </material>
    </visual>
    <!--<collision>-->
      <!--<geometry>-->
        <!--<mesh filename="meshes_hubo/Body_RAP_col.stl"/>-->
      <!--</geometry>-->
    <!--</collision>-->
  </link>
  <link name="Body_RAR">
    <inertial>
      <mass value="1.20318"/>
      <inertia ixx="0.00295183" ixy="-3.23211e-05" ixz="0.000141769" iyy="0.00524792" iyz="-5.95404e-05" izz="0.00516817"/>
      <origin xyz="-0.0515094 -0.00216398 -0.0693881"/>
    </inertial>
    <visual>
      <geometry>
        <mesh filename="meshes_hubo/Body_RAR_vis.stl"/>
      </geometry>
      <material name="random">
        <color rgba="0.800000 0.800000 0.800000 1"/>
      </material>
    </visual>
    <!--<collision>-->
      <!--<geometry>-->
        <!--<mesh filename="meshes_hubo/Body_RAR_col.stl"/>-->
      <!--</geometry>-->
    <!--</collision>-->
  </link>
  <joint name="HNR" type="revolute">
    <origin rpy="0 -0 0" xyz="0.0122581 0.0024526 0.196935"/>
    <parent link="Body_Torso"/>
    <child link="Body_HNR"/>
    <axis xyz="1 0 0"/>
    <limit effort="10.0" lower="-0.523599" upper="0.523599" velocity="1.0"/>
  </joint>
  <joint name="HNP" type="revolute">
    <origin rpy="0 -0 0" xyz="0 0 0"/>
    <parent link="Body_HNR"/>
    <child link="Body_HNP"/>
    <axis xyz="0 1 0"/>
    <limit effort="10.0" lower="-0.523599" upper="0.523599" velocity="1.0"/>
  </joint>
  <joint name="LSP" type="revolute">
    <origin rpy="0 -0 0" xyz="0.0122581 0.143973 0.0486356"/>
    <parent link="Body_Torso"/>
    <child link="Body_LSP"/>
    <axis xyz="0 1 0"/>
    <limit effort="10.0" lower="-3.14158" upper="3.14158" velocity="1.0"/>
  </joint>
  <joint name="LSR" type="revolute">
    <origin rpy="0 -0 0" xyz="0.0269 0.072 0"/>
    <parent link="Body_LSP"/>
    <child link="Body_LSR"/>
    <axis xyz="1 0 0"/>
    <limit effort="10.0" lower="-1.5708" upper="1.5708" velocity="1.0"/>
  </joint>
  <joint name="LSY" type="revolute">
    <origin rpy="0 -0 0" xyz="-0.0269 -0.000166249 -0.0245"/>
    <parent link="Body_LSR"/>
    <child link="Body_LSY"/>
    <axis xyz="0 0 1"/>
    <limit effort="10.0" lower="-3.14158" upper="3.14158" velocity="1.0"/>
  </joint>
  <joint name="LEP" type="revolute">
    <origin rpy="0 -0 0" xyz="0.0219936 -0.018 -0.157505"/>
    <parent link="Body_LSY"/>
    <child link="Body_LEP"/>
    <axis xyz="0 1 0"/>
    <limit effort="10.0" lower="-2.49582" upper="0.0698132" velocity="1.0"/>
  </joint>
  <joint name="LWY" type="revolute">
    <origin rpy="0 -0 0" xyz="-0.0219906 0.018 -0.111408"/>
    <parent link="Body_LEP"/>
    <child link="Body_LWY"/>
    <axis xyz="0 0 1"/>
    <limit effort="10.0" lower="-3.14158" upper="3.14158" velocity="1.0"/>
  </joint>
  <joint name="LWP" type="revolute">
    <origin rpy="0 -0 0" xyz="1.72973e-06 -0.00872953 -0.05255"/>
    <parent link="Body_LWY"/>
    <child link="Body_LWP"/>
    <axis xyz="0 1 0"/>
    <limit effort="10.0" lower="-1.64061" upper="1.01229" velocity="1.0"/>
  </joint>
  <joint name="leftThumbKnuckle1" type="revolute">
    <origin rpy="1.5708 -0.785398 -1.5708" xyz="0.0208959 0.00192069 -0.060952"/>
    <parent link="Body_LWP"/>
    <child link="leftThumbProximal"/>
    <axis xyz="0 0 1"/>
    <limit effort="10.0" lower="-3.14" upper="3.14" velocity="1.0"/>
  </joint>
  <joint name="Knuckle29" type="revolute">
    <origin rpy="0 -0 0" xyz="0.032 0 0"/>
    <parent link="leftThumbProximal"/>
    <child link="leftThumbMedial"/>
    <axis xyz="0 0 -1"/>
    <limit effort="10.0" lower="-3.14" upper="3.14" velocity="1.0"/>
  </joint>
  <joint name="Knuckle310" type="revolute">
    <origin rpy="0 -0 0" xyz="0.022 0 0"/>
    <parent link="leftThumbMedial"/>
    <child link="leftThumbDistal"/>
    <axis xyz="0 0 -1"/>
    <limit effort="10.0" lower="-3.14" upper="3.14" velocity="1.0"/>
  </joint>
  <joint name="leftPinkyKnuckle1" type="revolute">
    <origin rpy="1.5708 0.785398 1.5708" xyz="-0.0281041 0.0298617 -0.088883"/>
    <parent link="Body_LWP"/>
    <child link="leftPinkyProximal"/>
    <axis xyz="0 0 1"/>
    <limit effort="10.0" lower="-3.14" upper="3.14" velocity="1.0"/>
  </joint>
  <joint name="Knuckle212" type="revolute">
    <origin rpy="0 -0 0" xyz="0.032 0 0"/>
    <parent link="leftPinkyProximal"/>
    <child link="leftPinkyMedial"/>
    <axis xyz="0 0 -1"/>
    <limit effort="10.0" lower="-3.14" upper="3.14" velocity="1.0"/>
  </joint>
  <joint name="Knuckle313" type="revolute">
    <origin rpy="0 -0 0" xyz="0.022 0 0"/>
    <parent link="leftPinkyMedial"/>
    <child link="leftPinkyDistal"/>
    <axis xyz="0 0 -1"/>
    <limit effort="10.0" lower="-3.14" upper="3.14" velocity="1.0"/>
  </joint>
  <joint name="leftRingKnuckle1" type="revolute">
    <origin rpy="1.5708 0.785398 1.5708" xyz="-0.00910415 0.0298617 -0.088883"/>
    <parent link="Body_LWP"/>
    <child link="leftRingProximal"/>
    <axis xyz="0 0 1"/>
    <limit effort="10.0" lower="-3.14" upper="3.14" velocity="1.0"/>
  </joint>
  <joint name="Knuckle215" type="revolute">
    <origin rpy="0 -0 0" xyz="0.032 0 0"/>
    <parent link="leftRingProximal"/>
    <child link="leftRingMedial"/>
    <axis xyz="0 0 -1"/>
    <limit effort="10.0" lower="-3.14" upper="3.14" velocity="1.0"/>
  </joint>
  <joint name="Knuckle316" type="revolute">
    <origin rpy="0 -0 0" xyz="0.022 0 0"/>
    <parent link="leftRingMedial"/>
    <child link="leftRingDistal"/>
    <axis xyz="0 0 -1"/>
    <limit effort="10.0" lower="-3.14" upper="3.14" velocity="1.0"/>
  </joint>
  <joint name="leftMiddleKnuckle1" type="revolute">
    <origin rpy="1.5708 0.785398 1.5708" xyz="0.00993585 0.0298617 -0.088883"/>
    <parent link="Body_LWP"/>
    <child link="leftMiddleProximal"/>
    <axis xyz="0 0 1"/>
    <limit effort="10.0" lower="-3.14" upper="3.14" velocity="1.0"/>
  </joint>
  <joint name="Knuckle218" type="revolute">
    <origin rpy="0 -0 0" xyz="0.032 0 0"/>
    <parent link="leftMiddleProximal"/>
    <child link="leftMiddleMedial"/>
    <axis xyz="0 0 -1"/>
    <limit effort="10.0" lower="-3.14" upper="3.14" velocity="1.0"/>
  </joint>
  <joint name="Knuckle319" type="revolute">
    <origin rpy="0 -0 0" xyz="0.022 0 0"/>
    <parent link="leftMiddleMedial"/>
    <child link="leftMiddleDistal"/>
    <axis xyz="0 0 -1"/>
    <limit effort="10.0" lower="-3.14" upper="3.14" velocity="1.0"/>
  </joint>
  <joint name="leftIndexKnuckle1" type="revolute">
    <origin rpy="1.5708 0.785398 1.5708" xyz="0.0289159 0.0298617 -0.088883"/>
    <parent link="Body_LWP"/>
    <child link="leftIndexProximal"/>
    <axis xyz="0 0 1"/>
    <limit effort="10.0" lower="-3.14" upper="3.14" velocity="1.0"/>
  </joint>
  <joint name="Knuckle221" type="revolute">
    <origin rpy="0 -0 0" xyz="0.032 0 0"/>
    <parent link="leftIndexProximal"/>
    <child link="leftIndexMedial"/>
    <axis xyz="0 0 -1"/>
    <limit effort="10.0" lower="-3.14" upper="3.14" velocity="1.0"/>
  </joint>
  <joint name="Knuckle322" type="revolute">
    <origin rpy="0 -0 0" xyz="0.022 0 0"/>
    <parent link="leftIndexMedial"/>
    <child link="leftIndexDistal"/>
    <axis xyz="0 0 -1"/>
    <limit effort="10.0" lower="-3.14" upper="3.14" velocity="1.0"/>
  </joint>
  <joint name="RSP" type="revolute">
    <origin rpy="0 -0 0" xyz="0.0122581 -0.139027 0.0486356"/>
    <parent link="Body_Torso"/>
    <child link="Body_RSP"/>
    <axis xyz="0 1 0"/>
    <limit effort="10.0" lower="-3.14158" upper="3.14158" velocity="1.0"/>
  </joint>
  <joint name="RSR" type="revolute">
    <origin rpy="0 -0 0" xyz="0.0269 -0.072 0"/>
    <parent link="Body_RSP"/>
    <child link="Body_RSR"/>
    <axis xyz="1 0 0"/>
    <limit effort="10.0" lower="-1.5708" upper="1.5708" velocity="1.0"/>
  </joint>
  <joint name="RSY" type="revolute">
    <origin rpy="0 -0 0" xyz="-0.0269 0 -0.0245"/>
    <parent link="Body_RSR"/>
    <child link="Body_RSY"/>
    <axis xyz="0 0 1"/>
    <limit effort="10.0" lower="-3.14158" upper="3.14158" velocity="1.0"/>
  </joint>
  <joint name="REP" type="revolute">
    <origin rpy="0 -0 0" xyz="0.0219936 0.018 -0.157505"/>
    <parent link="Body_RSY"/>
    <child link="Body_REP"/>
    <axis xyz="0 1 0"/>
    <limit effort="10.0" lower="-2.49582" upper="0.0698132" velocity="1.0"/>
  </joint>
  <joint name="RWY" type="revolute">
    <origin rpy="0 -0 0" xyz="-0.0219906 -0.018 -0.111408"/>
    <parent link="Body_REP"/>
    <child link="Body_RWY"/>
    <axis xyz="0 0 1"/>
    <limit effort="10.0" lower="-3.14158" upper="3.14158" velocity="1.0"/>
  </joint>
  <joint name="RWP" type="revolute">
    <origin rpy="0 -0 0" xyz="1.72973e-06 0.01 -0.05255"/>
    <parent link="Body_RWY"/>
    <child link="Body_RWP"/>
    <axis xyz="0 1 0"/>
    <limit effort="10.0" lower="-1.64061" upper="1.01229" velocity="1.0"/>
  </joint>
  <joint name="rightThumbKnuckle1" type="revolute">
    <origin rpy="1.5708 -0.785398 1.5708" xyz="0.0208959 -0.00192069 -0.060952"/>
    <parent link="Body_RWP"/>
    <child link="rightThumbProximal"/>
    <axis xyz="0 0 1"/>
    <limit effort="10.0" lower="-3.14" upper="3.14" velocity="1.0"/>
  </joint>
  <joint name="Knuckle230" type="revolute">
    <origin rpy="0 -0 0" xyz="0.032 0 0"/>
    <parent link="rightThumbProximal"/>
    <child link="rightThumbMedial"/>
    <axis xyz="0 0 -1"/>
    <limit effort="10.0" lower="-3.14" upper="3.14" velocity="1.0"/>
  </joint>
  <joint name="Knuckle331" type="revolute">
    <origin rpy="0 -0 0" xyz="0.022 0 0"/>
    <parent link="rightThumbMedial"/>
    <child link="rightThumbDistal"/>
    <axis xyz="0 0 -1"/>
    <limit effort="10.0" lower="-3.14" upper="3.14" velocity="1.0"/>
  </joint>
  <joint name="rightPinkyKnuckle1" type="revolute">
    <origin rpy="1.5708 0.785398 -1.5708" xyz="-0.0281041 -0.0298617 -0.088883"/>
    <parent link="Body_RWP"/>
    <child link="rightPinkyProximal"/>
    <axis xyz="0 0 1"/>
    <limit effort="10.0" lower="-3.14" upper="3.14" velocity="1.0"/>
  </joint>
  <joint name="Knuckle233" type="revolute">
    <origin rpy="0 -0 0" xyz="0.032 0 0"/>
    <parent link="rightPinkyProximal"/>
    <child link="rightPinkyMedial"/>
    <axis xyz="0 0 -1"/>
    <limit effort="10.0" lower="-3.14" upper="3.14" velocity="1.0"/>
  </joint>
  <joint name="Knuckle334" type="revolute">
    <origin rpy="0 -0 0" xyz="0.022 0 0"/>
    <parent link="rightPinkyMedial"/>
    <child link="rightPinkyDistal"/>
    <axis xyz="0 0 -1"/>
    <limit effort="10.0" lower="-3.14" upper="3.14" velocity="1.0"/>
  </joint>
  <joint name="rightRingKnuckle1" type="revolute">
    <origin rpy="1.5708 0.785398 -1.5708" xyz="-0.00910415 -0.0298617 -0.088883"/>
    <parent link="Body_RWP"/>
    <child link="rightRingProximal"/>
    <axis xyz="0 0 1"/>
    <limit effort="10.0" lower="-3.14" upper="3.14" velocity="1.0"/>
  </joint>
  <joint name="Knuckle236" type="revolute">
    <origin rpy="0 -0 0" xyz="0.032 0 0"/>
    <parent link="rightRingProximal"/>
    <child link="rightRingMedial"/>
    <axis xyz="0 0 -1"/>
    <limit effort="10.0" lower="-3.14" upper="3.14" velocity="1.0"/>
  </joint>
  <joint name="Knuckle337" type="revolute">
    <origin rpy="0 -0 0" xyz="0.022 0 0"/>
    <parent link="rightRingMedial"/>
    <child link="rightRingDistal"/>
    <axis xyz="0 0 -1"/>
    <limit effort="10.0" lower="-3.14" upper="3.14" velocity="1.0"/>
  </joint>
  <joint name="rightMiddleKnuckle1" type="revolute">
    <origin rpy="1.5708 0.785398 -1.5708" xyz="0.00993585 -0.0298617 -0.088883"/>
    <parent link="Body_RWP"/>
    <child link="rightMiddleProximal"/>
    <axis xyz="0 0 1"/>
    <limit effort="10.0" lower="-3.14" upper="3.14" velocity="1.0"/>
  </joint>
  <joint name="Knuckle239" type="revolute">
    <origin rpy="0 -0 0" xyz="0.032 0 0"/>
    <parent link="rightMiddleProximal"/>
    <child link="rightMiddleMedial"/>
    <axis xyz="0 0 -1"/>
    <limit effort="10.0" lower="-3.14" upper="3.14" velocity="1.0"/>
  </joint>
  <joint name="Knuckle340" type="revolute">
    <origin rpy="0 -0 0" xyz="0.022 0 0"/>
    <parent link="rightMiddleMedial"/>
    <child link="rightMiddleDistal"/>
    <axis xyz="0 0 -1"/>
    <limit effort="10.0" lower="-3.14" upper="3.14" velocity="1.0"/>
  </joint>
  <joint name="rightIndexKnuckle1" type="revolute">
    <origin rpy="1.5708 0.785398 -1.5708" xyz="0.0289159 -0.0298617 -0.088883"/>
    <parent link="Body_RWP"/>
    <child link="rightIndexProximal"/>
    <axis xyz="0 0 1"/>
    <limit effort="10.0" lower="-3.14" upper="3.14" velocity="1.0"/>
  </joint>
  <joint name="Knuckle2" type="revolute">
    <origin rpy="0 -0 0" xyz="0.032 0 0"/>
    <parent link="rightIndexProximal"/>
    <child link="rightIndexMedial"/>
    <axis xyz="0 0 -1"/>
    <limit effort="10.0" lower="-3.14" upper="3.14" velocity="1.0"/>
  </joint>
  <joint name="Knuckle3" type="revolute">
    <origin rpy="0 -0 0" xyz="0.022 0 0"/>
    <parent link="rightIndexMedial"/>
    <child link="rightIndexDistal"/>
    <axis xyz="0 0 -1"/>
    <limit effort="10.0" lower="-3.14" upper="3.14" velocity="1.0"/>
  </joint>
  <joint name="HPY" type="revolute">
    <origin rpy="0 -0 0" xyz="0.0122662 0.00245974 -0.15262"/>
    <parent link="Body_Torso"/>
    <child link="Body_Hip"/>
    <axis xyz="0 0 1"/>
    <limit effort="10.0" lower="-3.14158" upper="3.14158" velocity="1.0"/>
  </joint>
  <joint name="LHY" type="revolute">
    <origin rpy="0 -0 0" xyz="0.000125136 0.0885155 -0.0764689"/>
    <parent link="Body_Hip"/>
    <child link="Body_LHY"/>
    <axis xyz="0 0 1"/>
    <limit effort="10.0" lower="-1.5708" upper="1.5708" velocity="1.0"/>
  </joint>
  <joint name="LHR" type="revolute">
    <origin rpy="0 -0 0" xyz="0.0520001 1.50498e-06 -0.091004"/>
    <parent link="Body_LHY"/>
    <child link="Body_LHR"/>
    <axis xyz="1 0 0"/>
    <limit effort="10.0" lower="-0.488692" upper="0.488692" velocity="1.0"/>
  </joint>
  <joint name="LHP" type="revolute">
    <origin rpy="0 -0 0" xyz="-0.0529074 0.0655748 9.99159e-05"/>
    <parent link="Body_LHR"/>
    <child link="Body_LHP"/>
    <axis xyz="0 1 0"/>
    <limit effort="10.0" lower="-1.48353" upper="1.6057" velocity="1.0"/>
  </joint>
  <joint name="LKP" type="revolute">
    <origin rpy="0 -0 0" xyz="0.000766364 -0.0445011 -0.280007"/>
    <parent link="Body_LHP"/>
    <child link="Body_LKP"/>
    <axis xyz="0 1 0"/>
    <limit effort="10.0" lower="-0.0698132" upper="2.60054" velocity="1.0"/>
  </joint>
  <joint name="LAP" type="revolute">
    <origin rpy="0 -0 0" xyz="7.20248e-06 0.0247555 -0.279942"/>
    <parent link="Body_LKP"/>
    <child link="Body_LAP"/>
    <axis xyz="0 1 0"/>
    <limit effort="10.0" lower="-1.29154" upper="1.69297" velocity="1.0"/>
  </joint>
  <joint name="LAR" type="revolute">
    <origin rpy="0 -0 0" xyz="0.0711787 -0.0466006 -1.04e-10"/>
    <parent link="Body_LAP"/>
    <child link="Body_LAR"/>
    <axis xyz="1 0 0"/>
    <limit effort="10.0" lower="-0.191986" upper="0.191986" velocity="1.0"/>
  </joint>
  <joint name="RHY" type="revolute">
    <origin rpy="0 -0 0" xyz="0.000125136 -0.0884999 -0.0764689"/>
    <parent link="Body_Hip"/>
    <child link="Body_RHY"/>
    <axis xyz="0 0 1"/>
    <limit effort="10.0" lower="-1.5708" upper="1.5708" velocity="1.0"/>
  </joint>
  <joint name="RHR" type="revolute">
    <origin rpy="0 -0 0" xyz="0.0520001 7.3455e-05 -0.091004"/>
    <parent link="Body_RHY"/>
    <child link="Body_RHR"/>
    <axis xyz="1 0 0"/>
    <limit effort="10.0" lower="-0.488692" upper="0.488692" velocity="1.0"/>
  </joint>
  <joint name="RHP" type="revolute">
    <origin rpy="0 -0 0" xyz="-0.0529074 -0.0655748 9.99159e-05"/>
    <parent link="Body_RHR"/>
    <child link="Body_RHP"/>
    <axis xyz="0 1 0"/>
    <limit effort="10.0" lower="-1.48353" upper="1.6057" velocity="1.0"/>
  </joint>
  <joint name="RKP" type="revolute">
    <origin rpy="0 -0 0" xyz="0.000766364 0.0445011 -0.280007"/>
    <parent link="Body_RHP"/>
    <child link="Body_RKP"/>
    <axis xyz="0 1 0"/>
    <limit effort="10.0" lower="-0.0698132" upper="2.60054" velocity="1.0"/>
  </joint>
  <joint name="RAP" type="revolute">
    <origin rpy="0 -0 0" xyz="7.20248e-06 -0.0247555 -0.279942"/>
    <parent link="Body_RKP"/>
    <child link="Body_RAP"/>
    <axis xyz="0 1 0"/>
    <limit effort="10.0" lower="-1.29154" upper="1.69297" velocity="1.0"/>
  </joint>
  <joint name="RAR" type="revolute">
    <origin rpy="0 -0 0" xyz="0.0711787 0.0466006 -1.04e-10"/>
    <parent link="Body_RAP"/>
    <child link="Body_RAR"/>
    <axis xyz="1 0 0"/>
    <limit effort="10.0" lower="-0.191986" upper="0.191986" velocity="1.0"/>
  </joint>
  <joint name="r_foot_contact" type="fixed">
      <origin rpy="0 0 0" xyz="-0.05 0 -0.1"/>
      <axis xyz="0 0 1"/>
      <parent link="Body_RAR"/>
      <child link="r_foot_contact_frame"/>
  </joint>
  <link name="r_foot_contact_frame">
    <inertial>
      <mass value="0.1"/>
      <origin rpy="0 0 0" xyz="0 0 0"/>
      <inertia ixx="8.33333333333e-05" ixy="0.0" ixz="0.0" iyy="8.33333333333e-05" iyz="0.0" izz="0.000125"/>
    </inertial>
  </link>

  <joint name="l_foot_contact" type="fixed">
      <origin rpy="0 0 0" xyz="-0.05 0 -0.1"/>
      <axis xyz="0 0 1"/>
      <parent link="Body_LAR"/>
      <child link="l_foot_contact_frame"/>
  </joint>
  <link name="l_foot_contact_frame">
    <inertial>
      <mass value="0.1"/>
      <origin rpy="0 0 0" xyz="0 0 0"/>
      <inertia ixx="8.33333333333e-05" ixy="0.0" ixz="0.0" iyy="8.33333333333e-05" iyz="0.0" izz="0.000125"/>
    </inertial>
  </link>



</robot>
